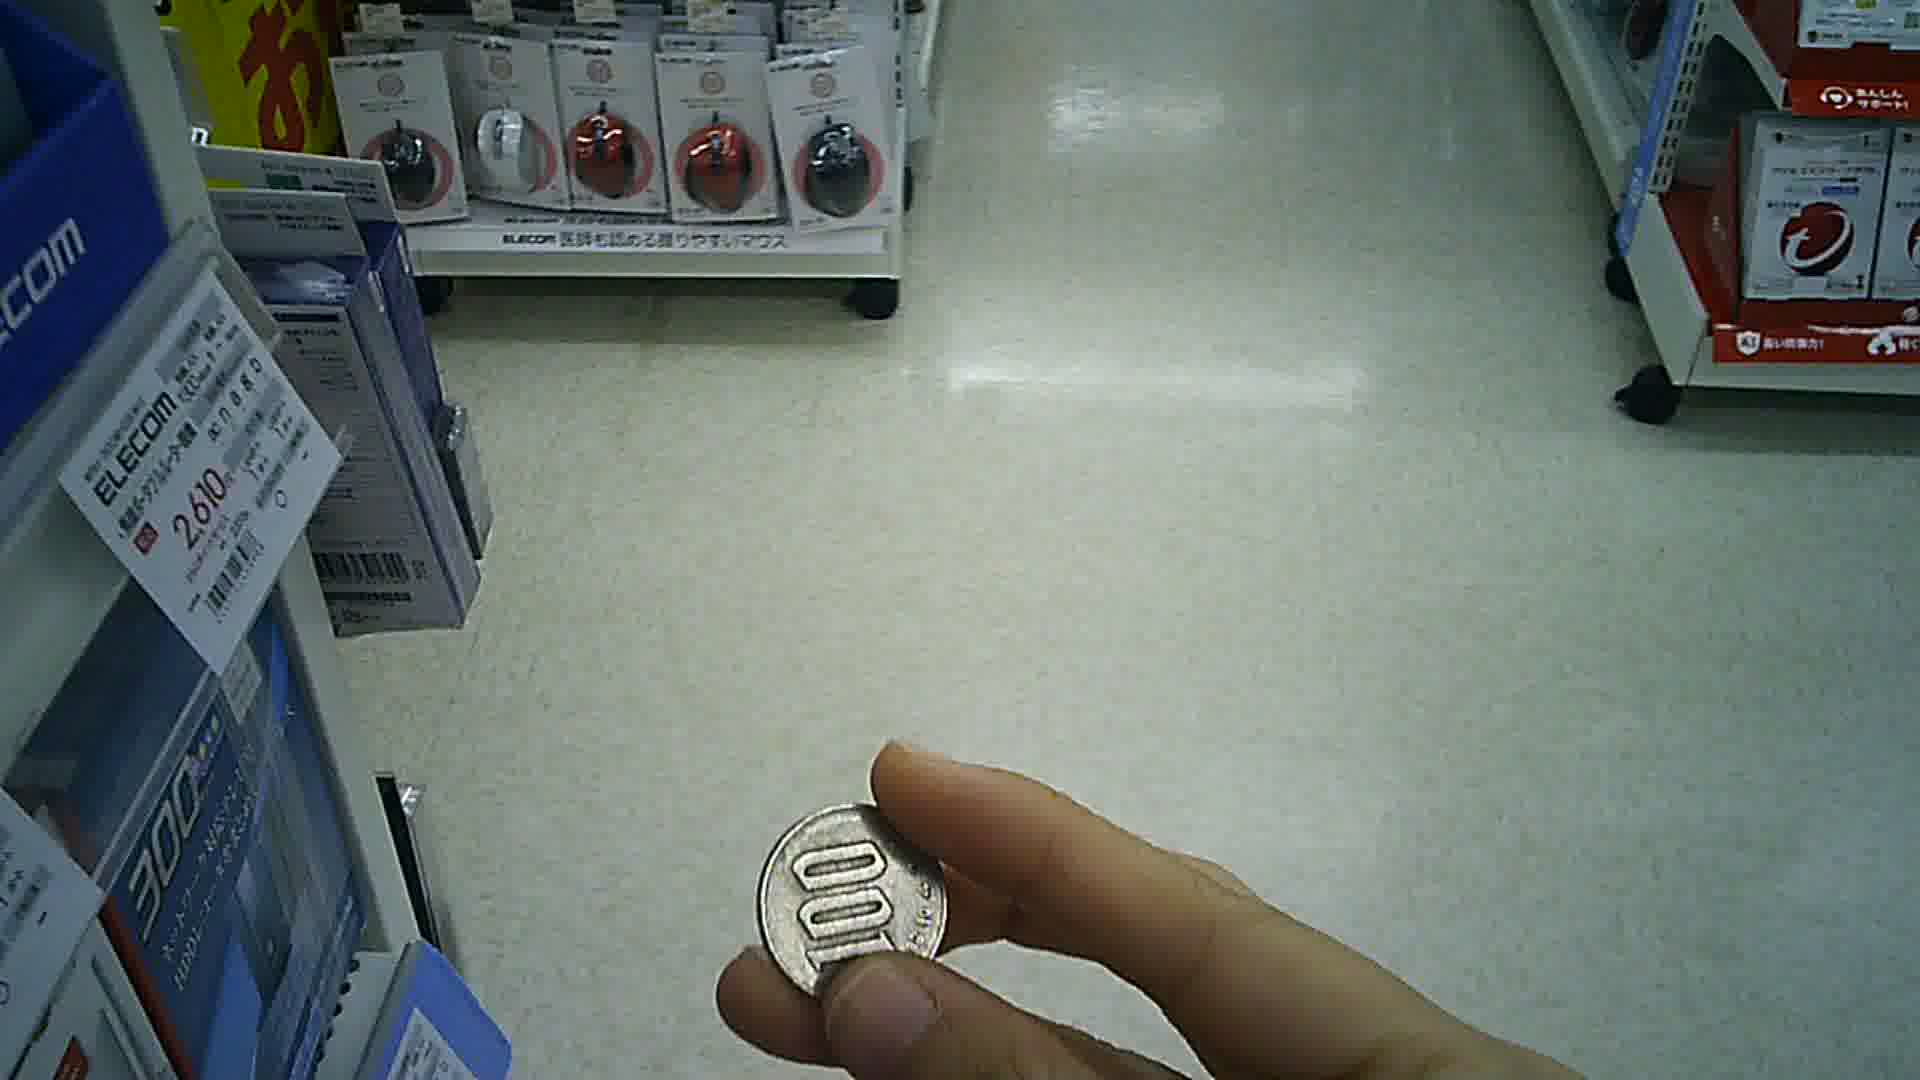100 Yen: (746, 796, 957, 994)
